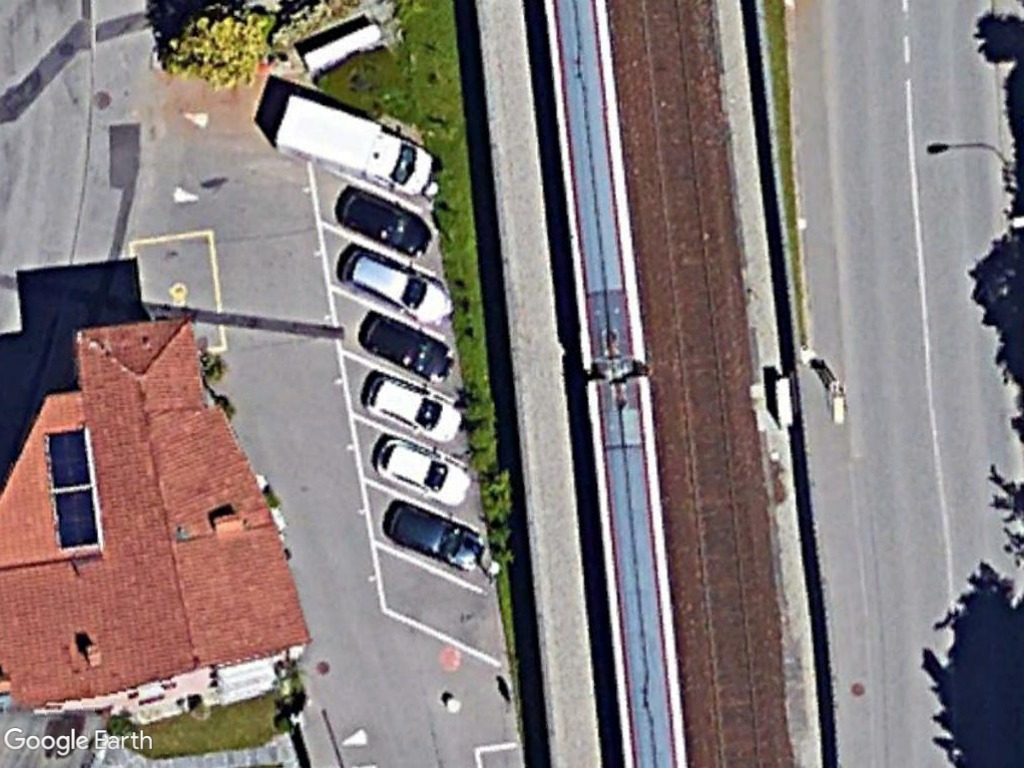car: (333, 244, 456, 327), (368, 429, 474, 512), (359, 368, 467, 444)
truck: (269, 91, 437, 199)
